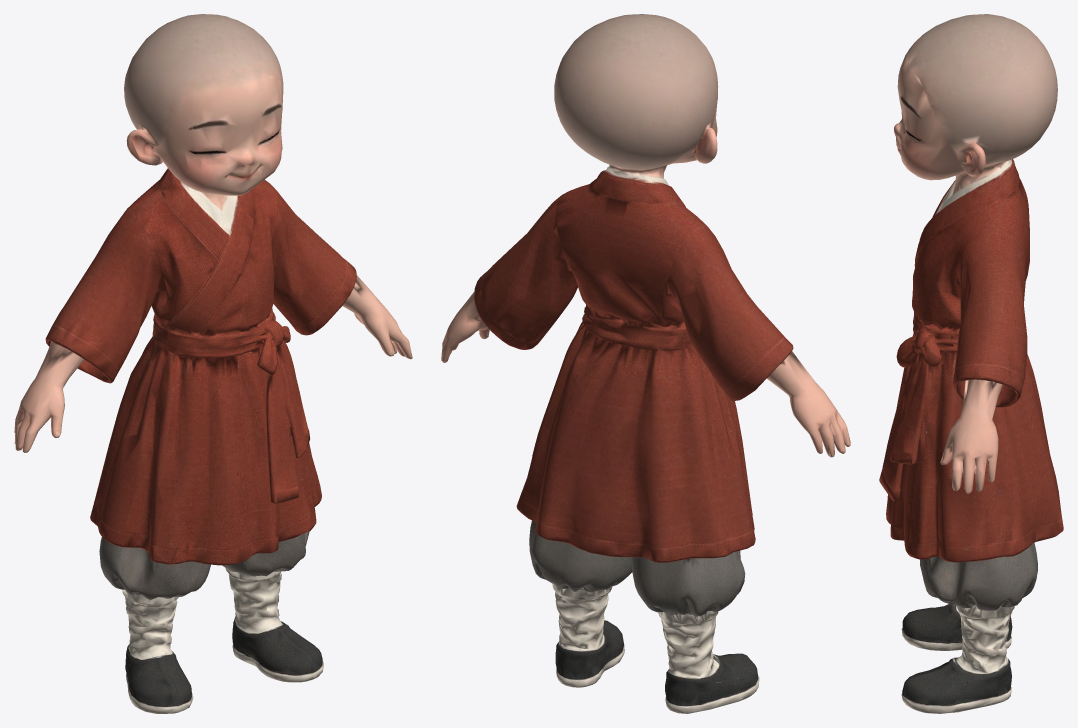
File: novice.glb
3 renders of one model, left to right at view 1: azimuth 30°, elevation 25°; view 2: azimuth 150°, elevation 25°; view 3: azimuth 270°, elevation 25°, orthographic. The views are drawn at different scales.
Visible parts, largest first — view 1: robe, skin, legs, shoes; view 2: robe, skin, legs, shoes; view 3: robe, skin, legs, shoes.
Part boxes in pixels (<box>): robe: <box>45,168,356,584</box>; skin: <box>14,14,412,452</box>; legs: <box>99,532,309,660</box>; shoes: <box>125,616,323,713</box>; robe: <box>474,164,793,608</box>; skin: <box>441,14,850,457</box>; legs: <box>529,520,745,680</box>; shoes: <box>555,620,759,713</box>; robe: <box>879,159,1063,608</box>; skin: <box>894,14,1057,493</box>; legs: <box>920,542,1037,674</box>; shoes: <box>901,604,1012,713</box>.
Bounding box in the file's own units: 0.7444 × 1.18 × 0.3041.
1 material, 1 textured.
